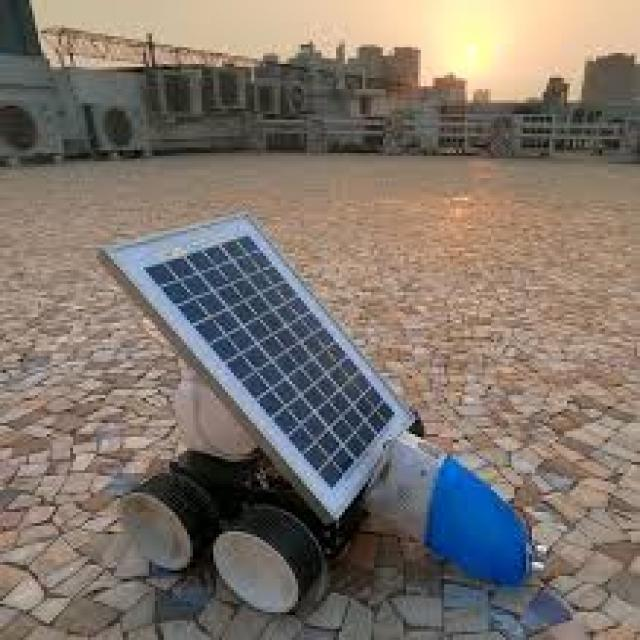no faulty: (139, 237, 394, 476)
